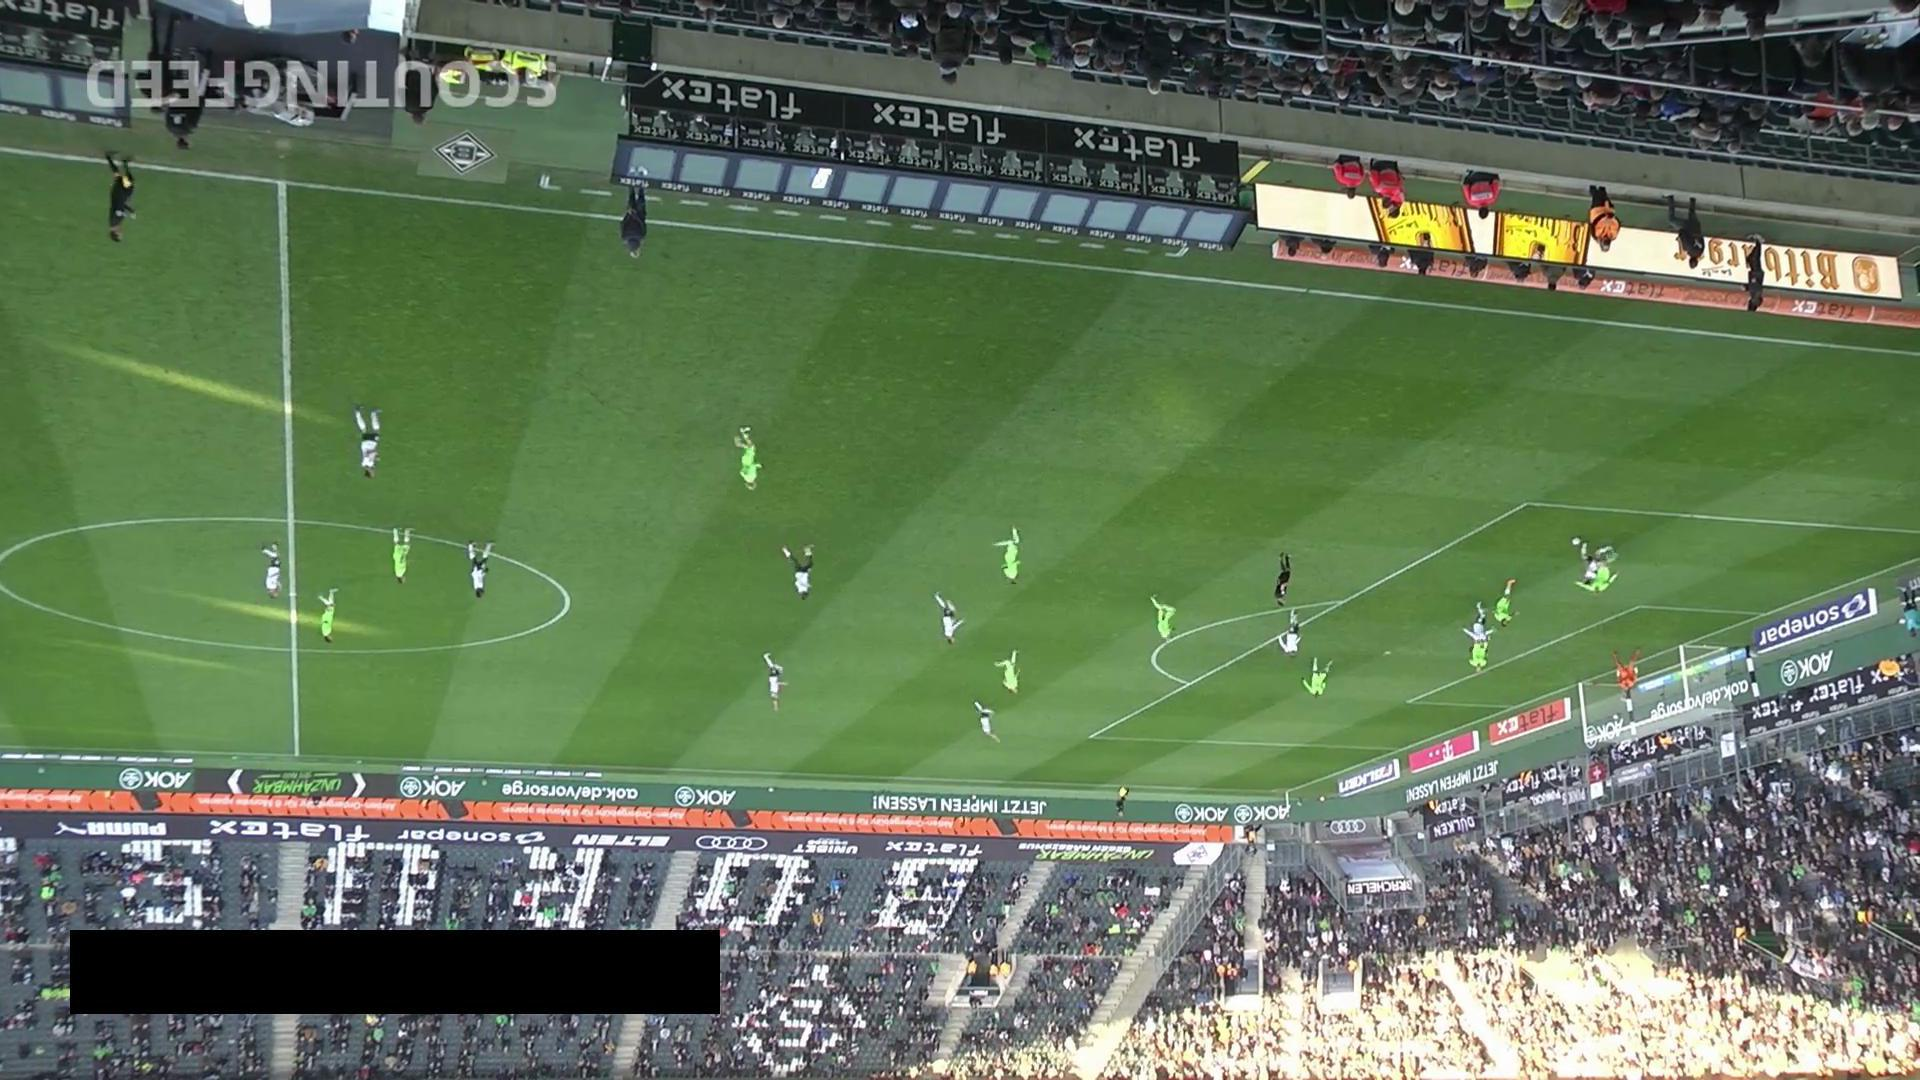ball: (1571, 536, 1581, 546)
goalkeeper: (1611, 648, 1641, 693)
player: (353, 406, 382, 479), (1574, 551, 1619, 596), (1463, 602, 1494, 665), (781, 544, 814, 602), (933, 592, 965, 646), (735, 427, 762, 491), (466, 541, 495, 599), (762, 653, 787, 711), (1580, 541, 1612, 585), (1302, 658, 1334, 700), (259, 543, 282, 599), (316, 589, 339, 645), (1150, 594, 1177, 641), (1494, 578, 1518, 630), (392, 527, 413, 585), (1278, 610, 1302, 660), (1002, 526, 1022, 586), (973, 701, 1000, 744), (996, 650, 1019, 695)
referee: (105, 152, 137, 243), (1274, 552, 1292, 608), (1114, 787, 1130, 819)
